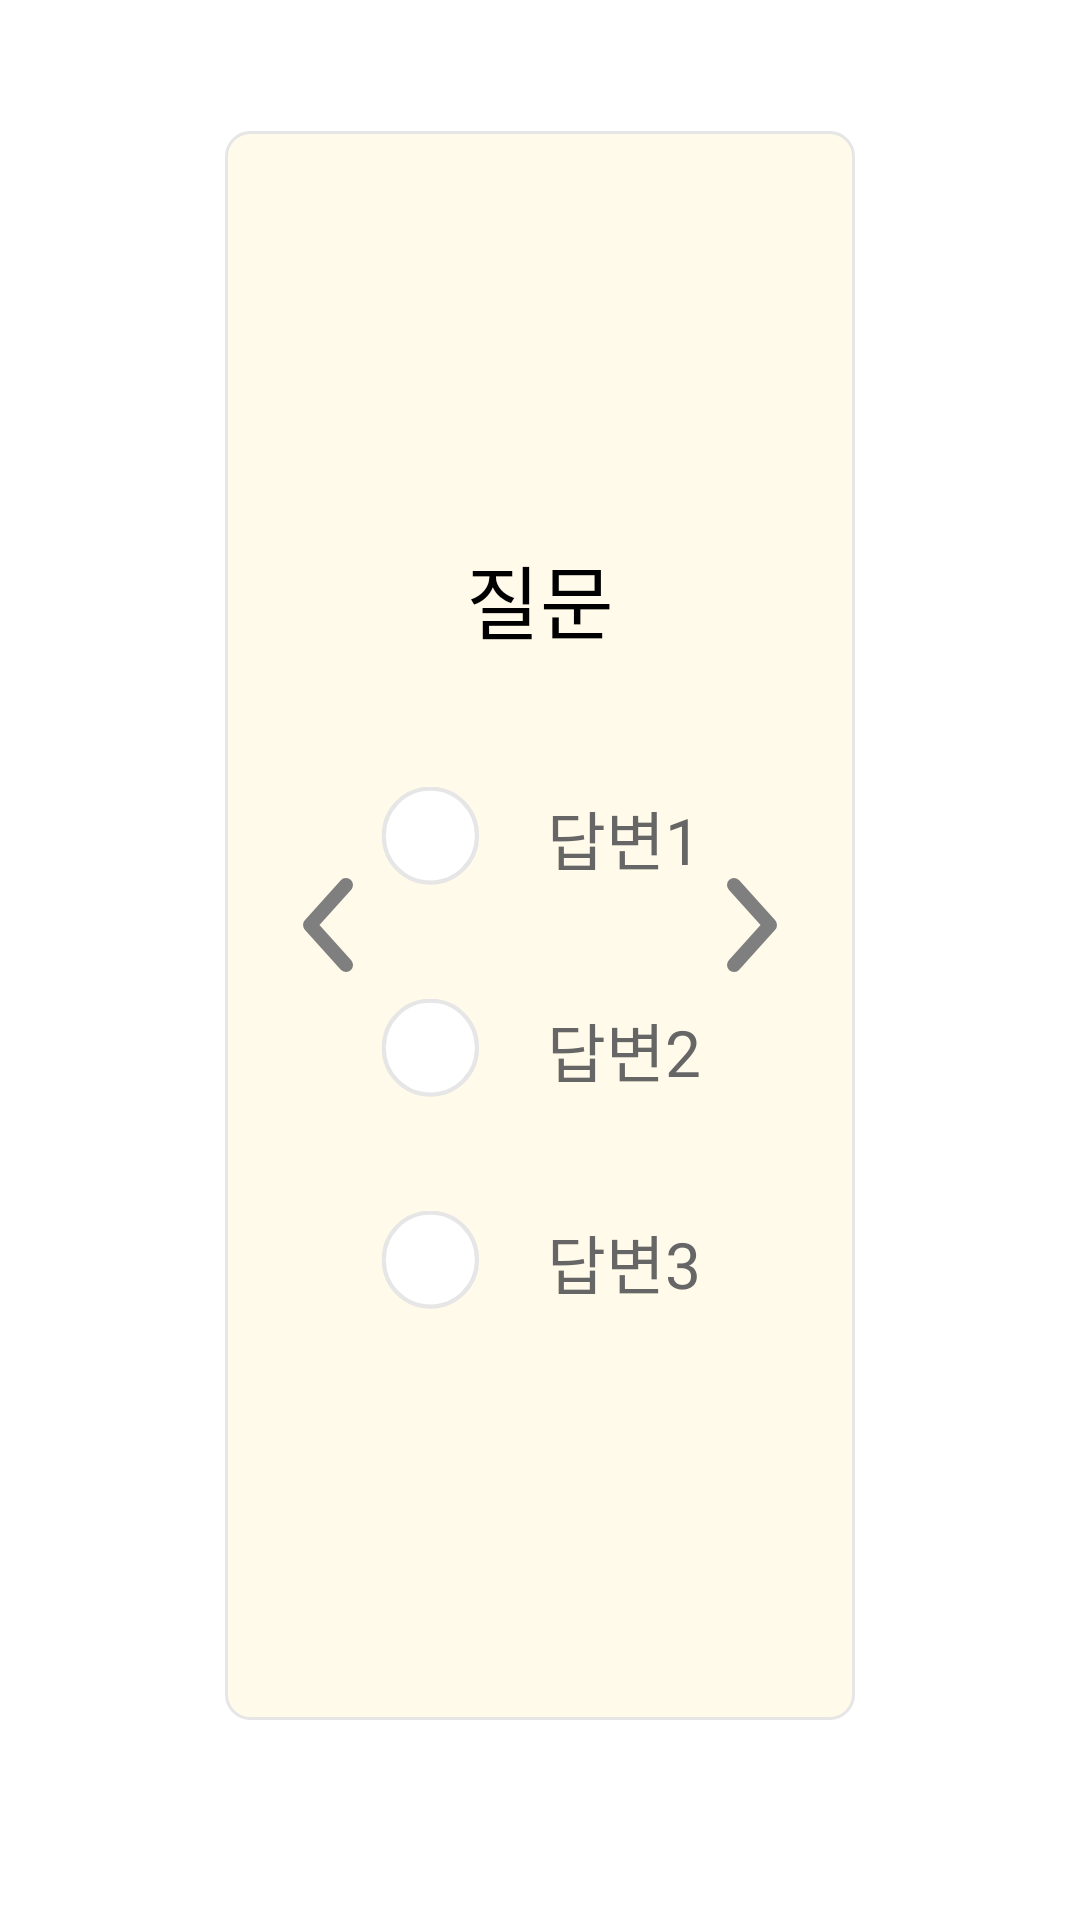

Icon bounding boxes for this 1080 × 1920 phone screenshot, format (x1, y1, x2, y2):
radio: (382, 787, 479, 885), (382, 999, 479, 1097), (382, 1211, 479, 1309)
